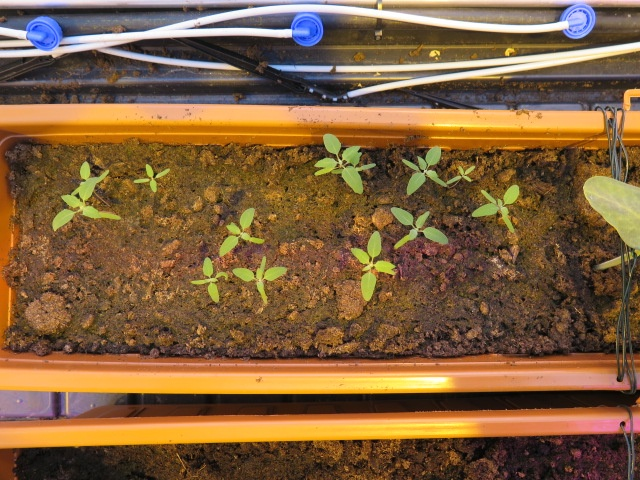crop: (579, 174, 640, 272)
weed: (49, 162, 123, 235), (307, 131, 378, 195), (351, 227, 393, 308), (230, 251, 290, 307), (389, 205, 449, 254), (469, 182, 521, 235), (398, 145, 445, 197), (217, 212, 270, 256), (192, 254, 230, 301), (131, 159, 173, 195), (447, 165, 480, 189)
